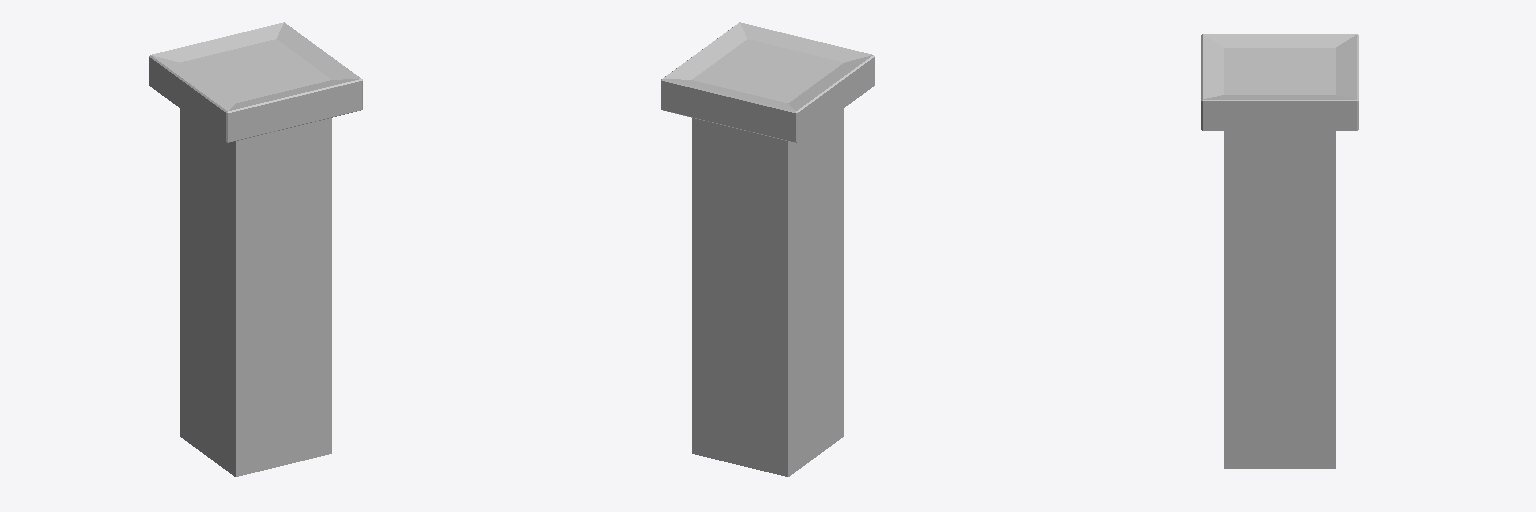
Rendered from EndGateBrick.obj.
3 renders of one model, left to right at view 1: azimuth 30°, elevation 25°; view 2: azimuth 150°, elevation 25°; view 3: azimuth 270°, elevation 25°, orthographic.
Parts seen in each view (by area): view 1: pCube3; view 2: pCube3; view 3: pCube3.
Part boxes in pixels (bbox=[...]): pCube3: bbox=[149, 22, 362, 476]; pCube3: bbox=[661, 22, 874, 476]; pCube3: bbox=[1201, 34, 1358, 468].
Bounding box in the file's own units: 3.93 × 10.4 × 3.93.